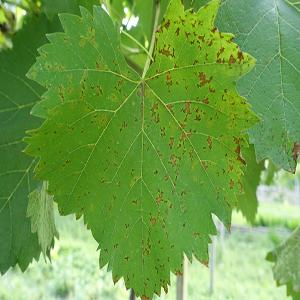Folha: (0, 0, 102, 277), (190, 0, 300, 174), (264, 215, 300, 300)
Fungo: (22, 0, 262, 298), (162, 145, 190, 189), (272, 239, 296, 286), (86, 78, 112, 106), (80, 20, 101, 54), (177, 115, 196, 151), (133, 236, 158, 263), (175, 195, 196, 224), (210, 39, 228, 72), (188, 27, 209, 52), (158, 41, 179, 65), (184, 8, 204, 33), (111, 69, 129, 96), (224, 107, 242, 134), (188, 249, 212, 269), (199, 147, 213, 180), (224, 48, 242, 72), (124, 160, 140, 187), (77, 77, 91, 107), (226, 170, 241, 198), (234, 136, 247, 168), (159, 14, 184, 30), (102, 136, 118, 158), (56, 83, 70, 105), (184, 97, 196, 121), (196, 70, 212, 87), (44, 58, 61, 74), (194, 106, 209, 123), (109, 187, 119, 212), (223, 81, 230, 111), (195, 94, 210, 108), (100, 158, 114, 173), (139, 289, 157, 300), (97, 173, 109, 187), (293, 139, 300, 161), (150, 101, 158, 118), (155, 188, 163, 204), (59, 160, 71, 169), (149, 212, 156, 226), (119, 120, 127, 132), (206, 135, 212, 149), (160, 124, 166, 138), (168, 136, 174, 149), (66, 158, 74, 167), (132, 195, 138, 205), (113, 242, 118, 249), (125, 222, 129, 229)
